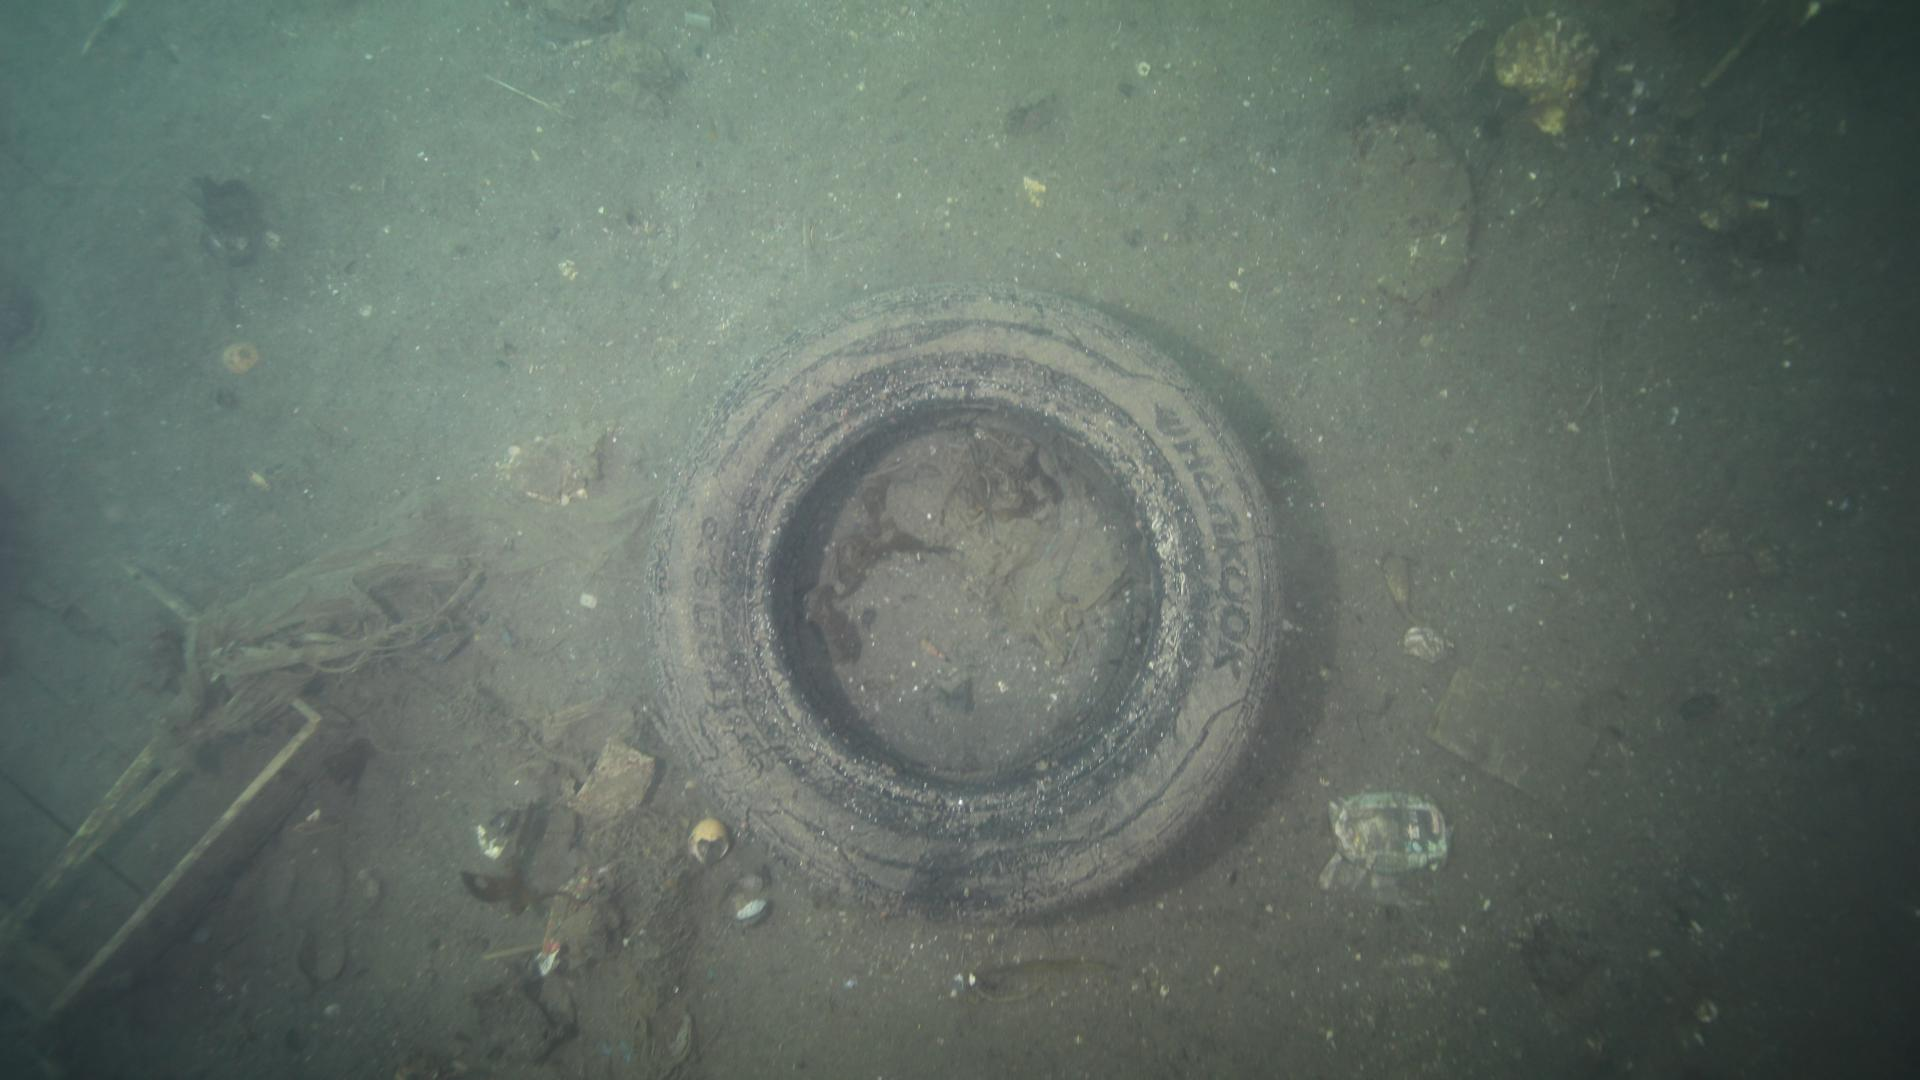tire: (628, 290, 1294, 926)
